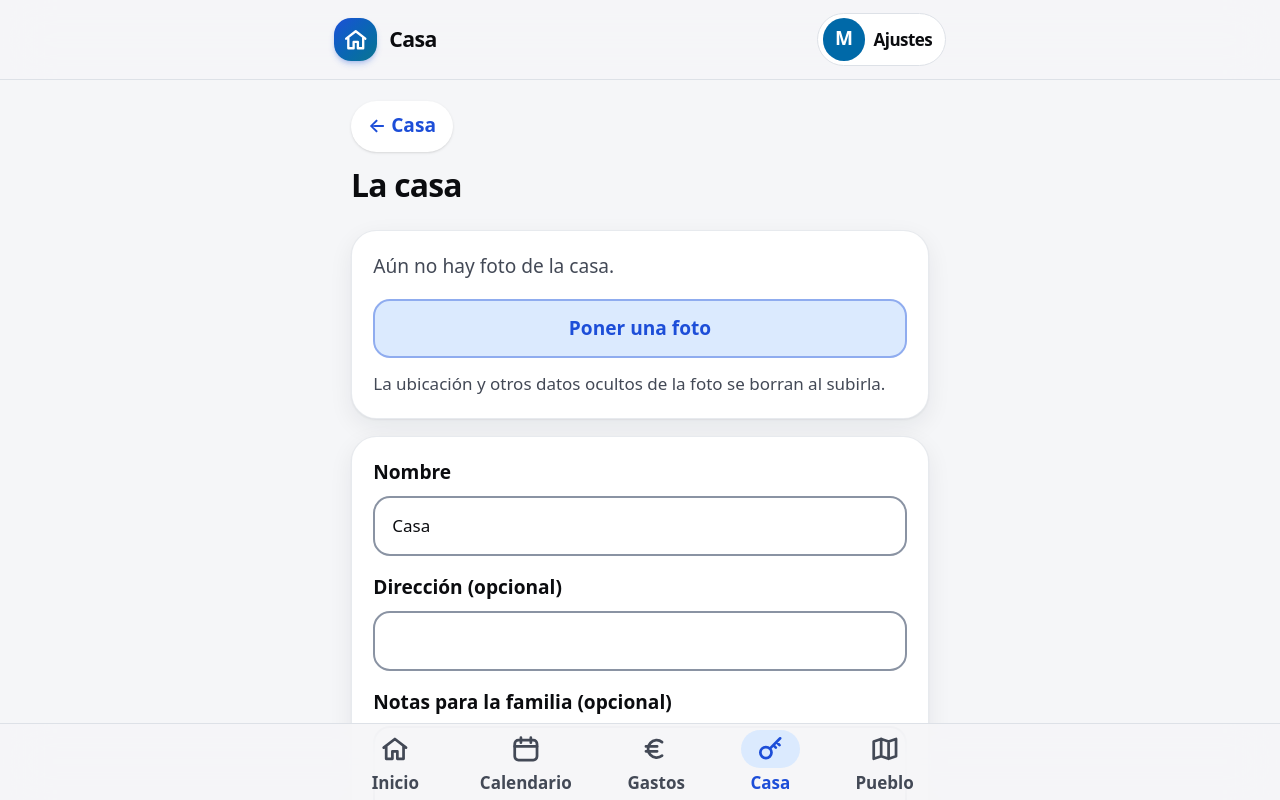
Test case: toda la familia puede hacer de todo › los datos de la casa los puede cambiar cualquiera de la familia
Replace the text in the field labelled "Nombre" with "Casa del pueblo": (640, 526) [373,496,907,556]
(page scrolled)
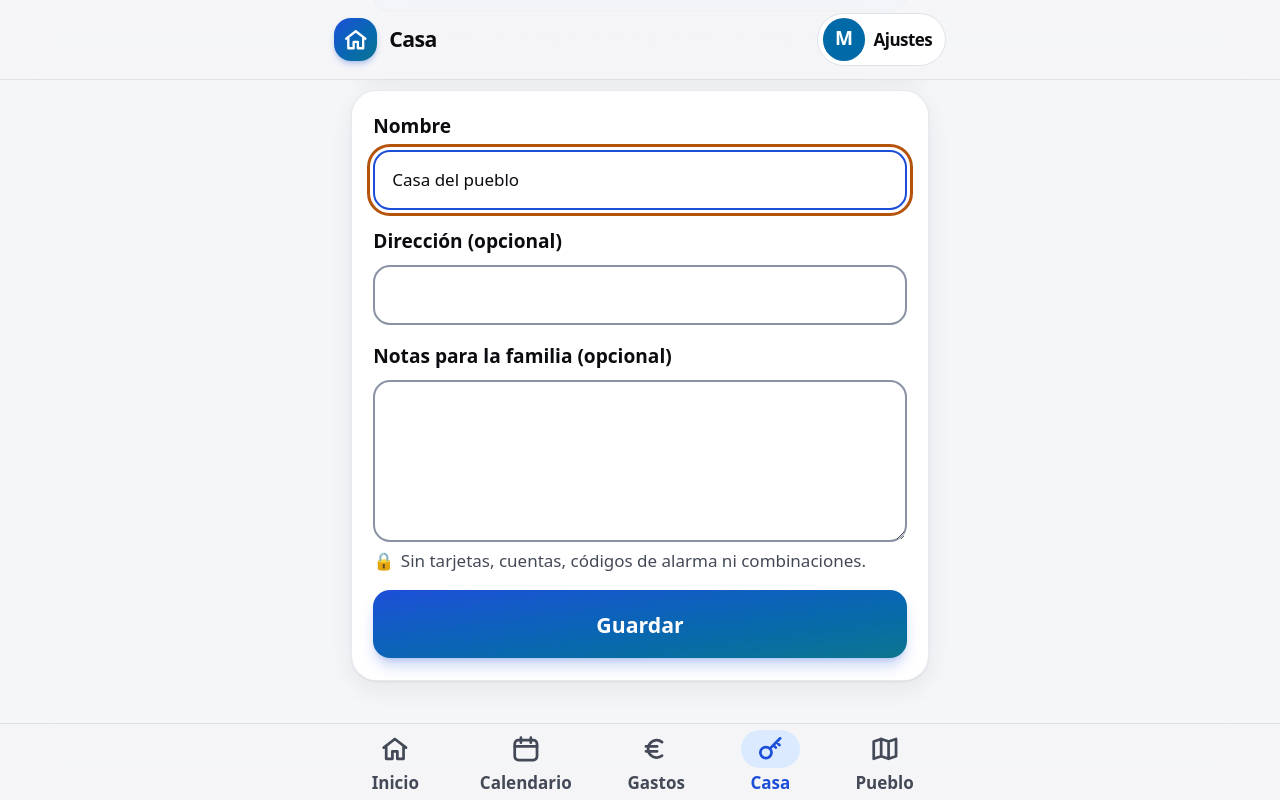
Click the button "Guardar": (640, 624) [373,590,907,658]
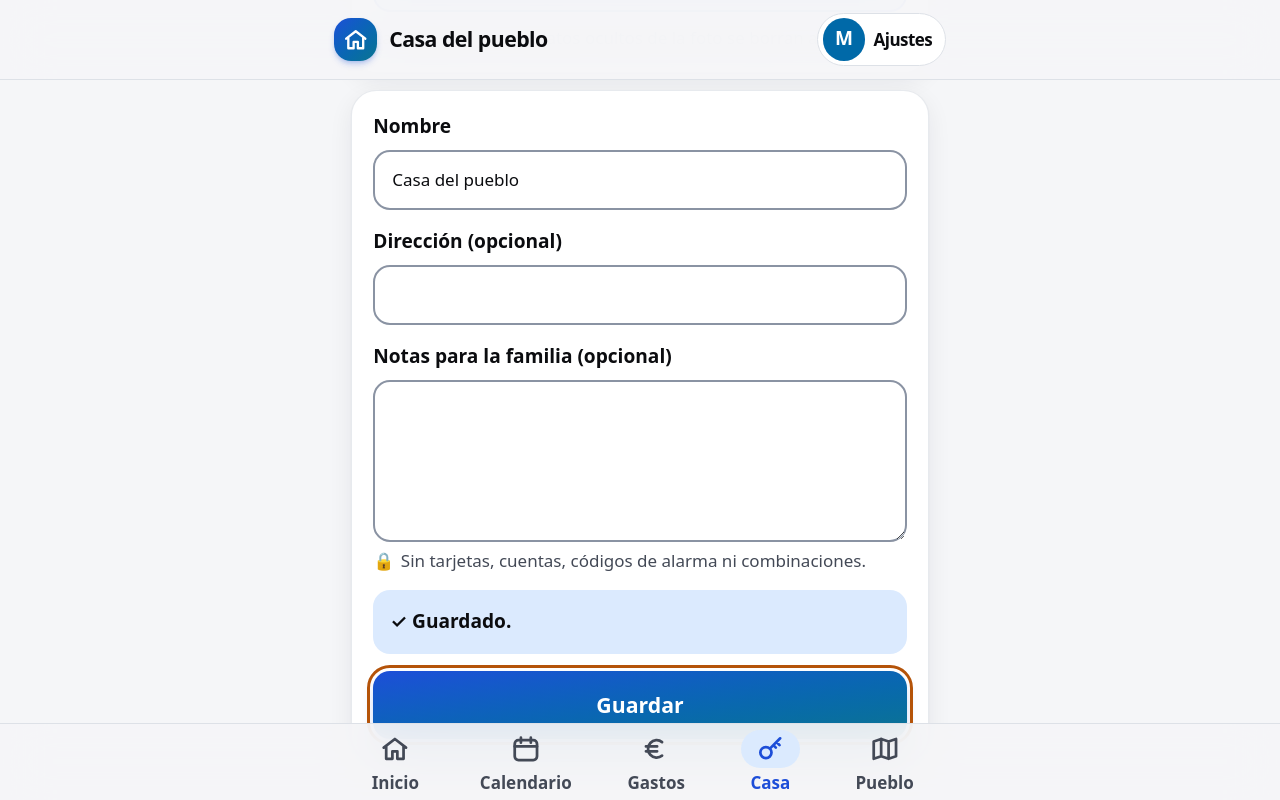
Check: the text "Guardado." is shown, box [412,608,511,634]
